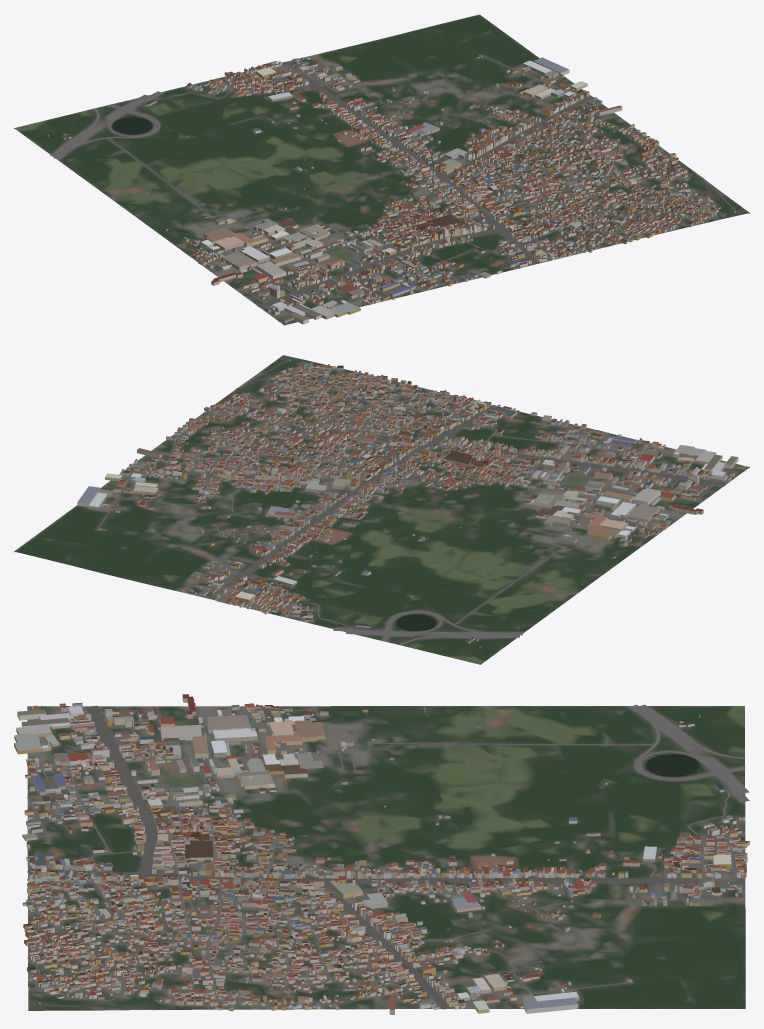
The picture shows the model from 3 angles, top to bottom: view 1: azimuth 30°, elevation 25°; view 2: azimuth 150°, elevation 25°; view 3: azimuth 270°, elevation 25°; orthographic projection. The views are drawn at different scales.
Parts seen in each view (by area): view 1: ground, buildings, roads, water; view 2: ground, buildings, roads, water; view 3: ground, buildings, roads, water.
Part boxes in pixels (bbox=[...]): ground: bbox=[14, 14, 749, 325]; buildings: bbox=[47, 54, 735, 324]; roads: bbox=[50, 55, 740, 323]; water: bbox=[112, 117, 152, 134]; ground: bbox=[14, 355, 749, 664]; buildings: bbox=[77, 359, 745, 648]; roads: bbox=[96, 357, 746, 645]; water: bbox=[396, 614, 436, 631]; ground: bbox=[27, 706, 745, 1010]; buildings: bbox=[14, 694, 749, 1014]; roads: bbox=[27, 704, 749, 1010]; water: bbox=[646, 753, 699, 776].
Bounding box in the file's own units: 1460 × 32.61 × 1438.
